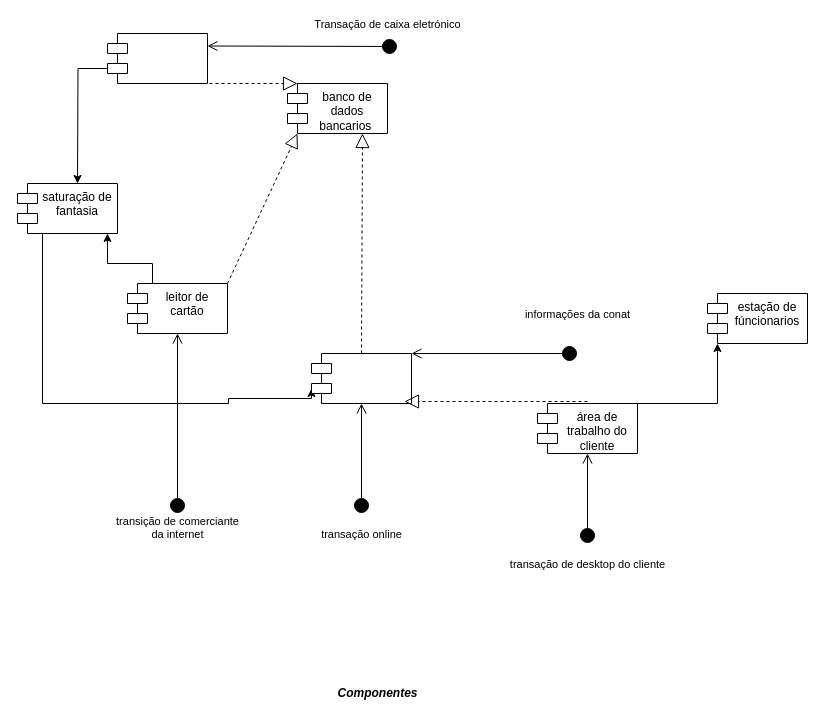
The diagram is 825 pixels wide and 726 high, and some of its shapes have lost their labels. The centre of each missing label's shape, as x and y in pixels:
"Caixa eletrónico" belongs at (x=157, y=58).
"página da internet" belongs at (x=361, y=378).
